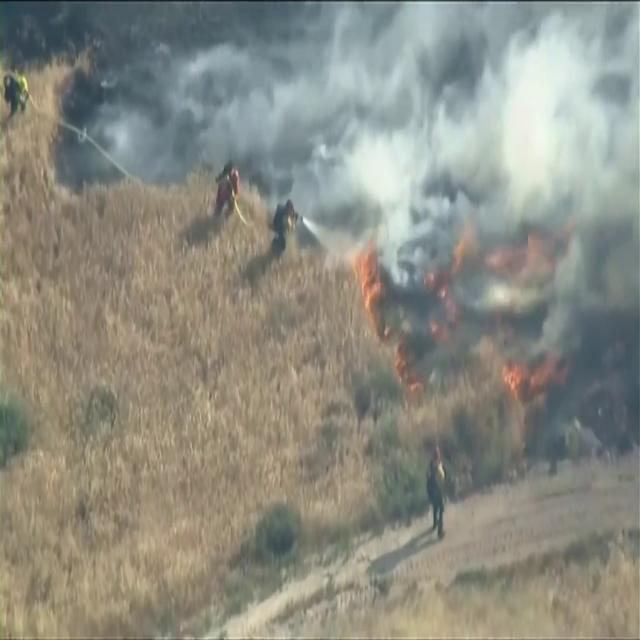Fire: (502, 354, 572, 392), (488, 232, 536, 274), (354, 249, 384, 311), (450, 221, 480, 278), (429, 284, 457, 344), (393, 342, 405, 387), (411, 377, 424, 392)
Smoke: (324, 4, 640, 206), (178, 46, 322, 168), (81, 111, 171, 183), (534, 234, 584, 356), (584, 208, 640, 306), (380, 205, 432, 288), (478, 284, 550, 316)
